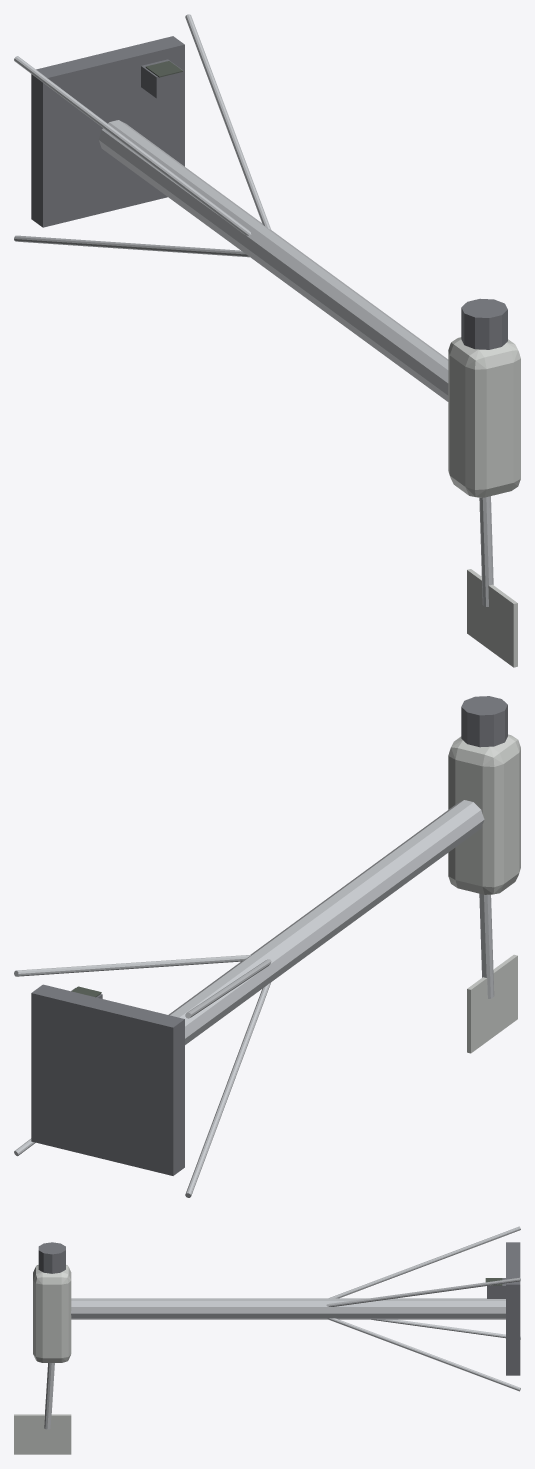
The model's file is wind.obj.
3 views of the same model, one above another, from view 1: azimuth 30°, elevation 25°; view 2: azimuth 150°, elevation 25°; view 3: azimuth 270°, elevation 25° (orthographic). The views are drawn at different scales.
Size of the model in its own units: 0.5244 by 0.95 by 2.12.
